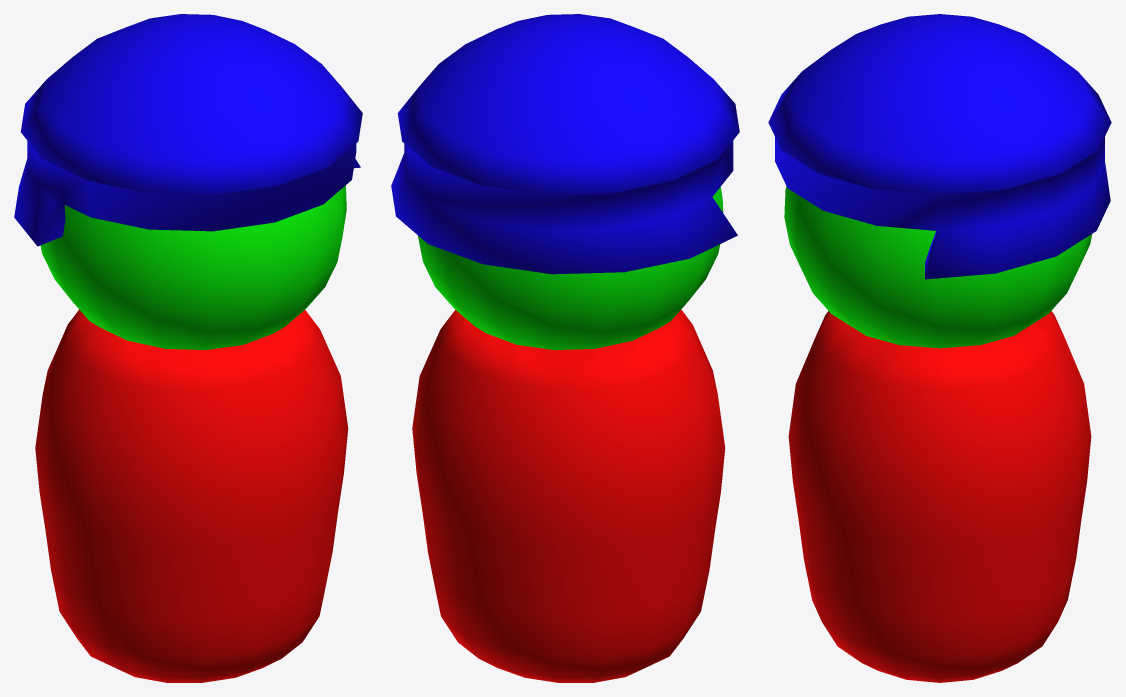
File: ennemi.fbx
The picture shows the model from 3 angles, left to right: view 1: azimuth 30°, elevation 25°; view 2: azimuth 150°, elevation 25°; view 3: azimuth 270°, elevation 25°; orthographic projection.
Parts seen in each view (by area): view 1: Sphere.001; view 2: Sphere.001; view 3: Sphere.001.
Boxes of the visible parts, <box> form: Sphere.001: <box>14,14,362,682</box>; Sphere.001: <box>391,14,739,682</box>; Sphere.001: <box>768,14,1111,682</box>.
Bounding box in the file's own units: 253 × 469 × 234.
